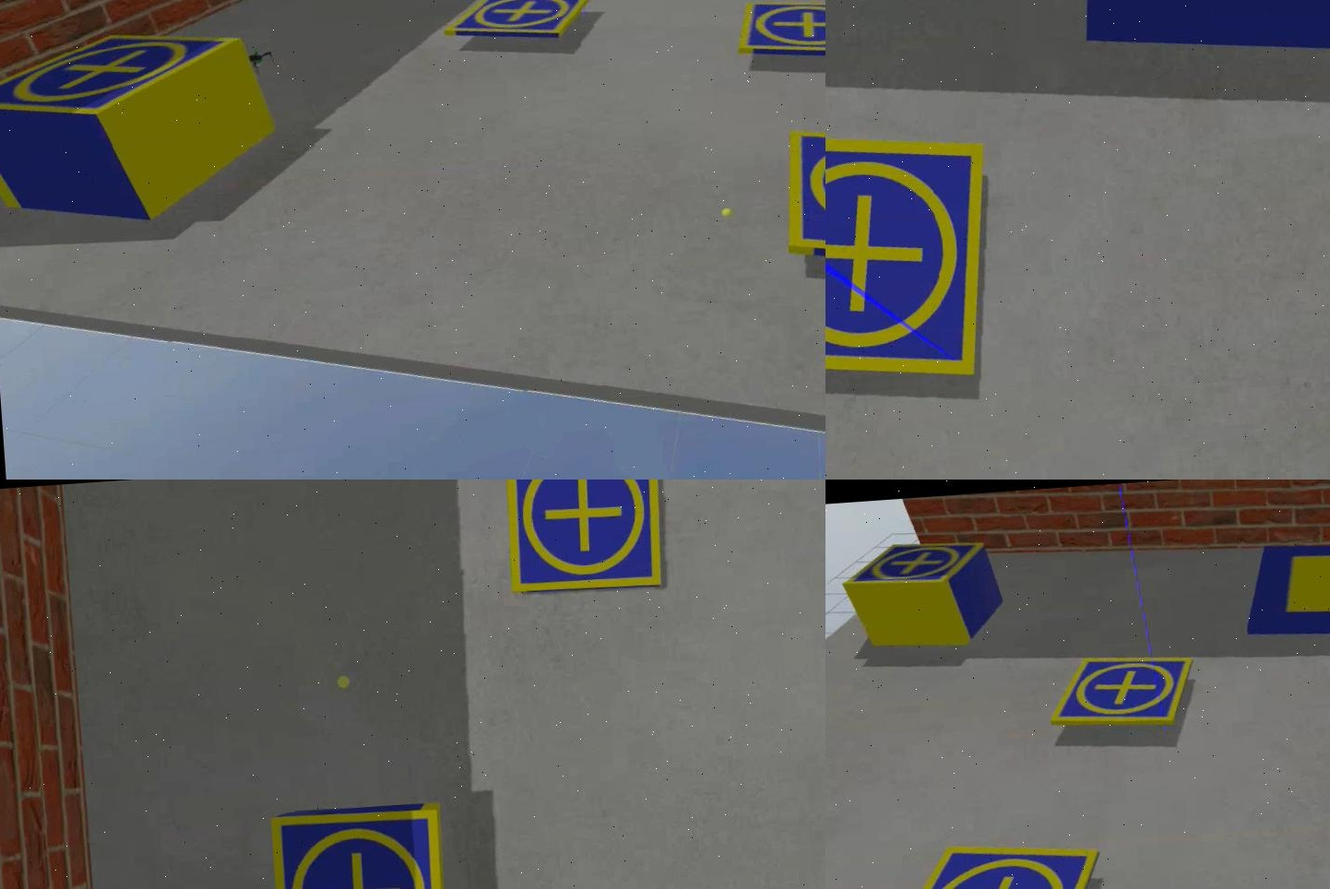large_base: (1237, 524, 1328, 656)
small_base: (824, 122, 997, 391), (0, 29, 247, 129), (500, 480, 667, 598), (265, 802, 449, 889), (856, 832, 1111, 889), (1044, 649, 1196, 735), (839, 538, 986, 599), (444, 1, 590, 50), (734, 1, 824, 66)
